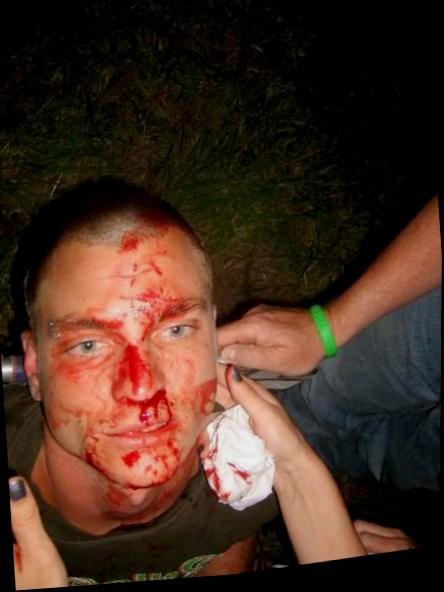Fire: (21, 230, 216, 537)
